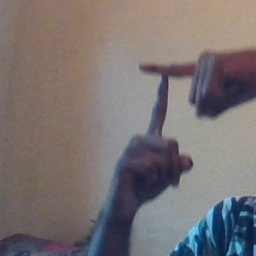T: (115, 45, 219, 155)
